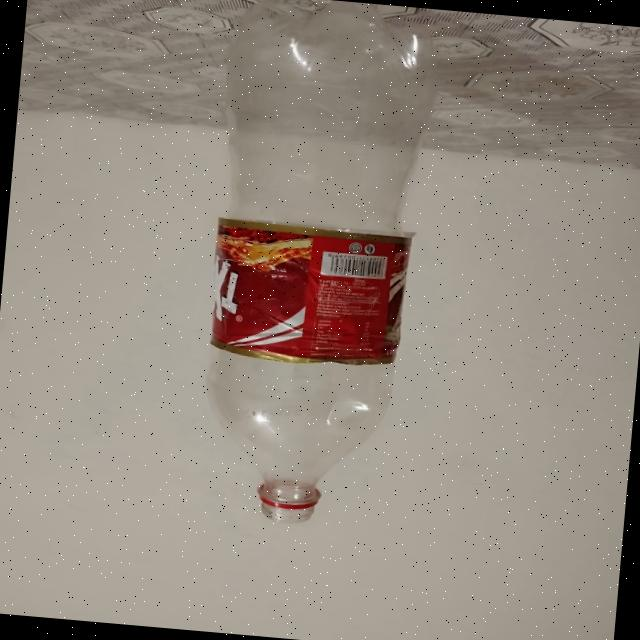bottle: (184, 0, 442, 534)
label: (203, 218, 419, 374)
